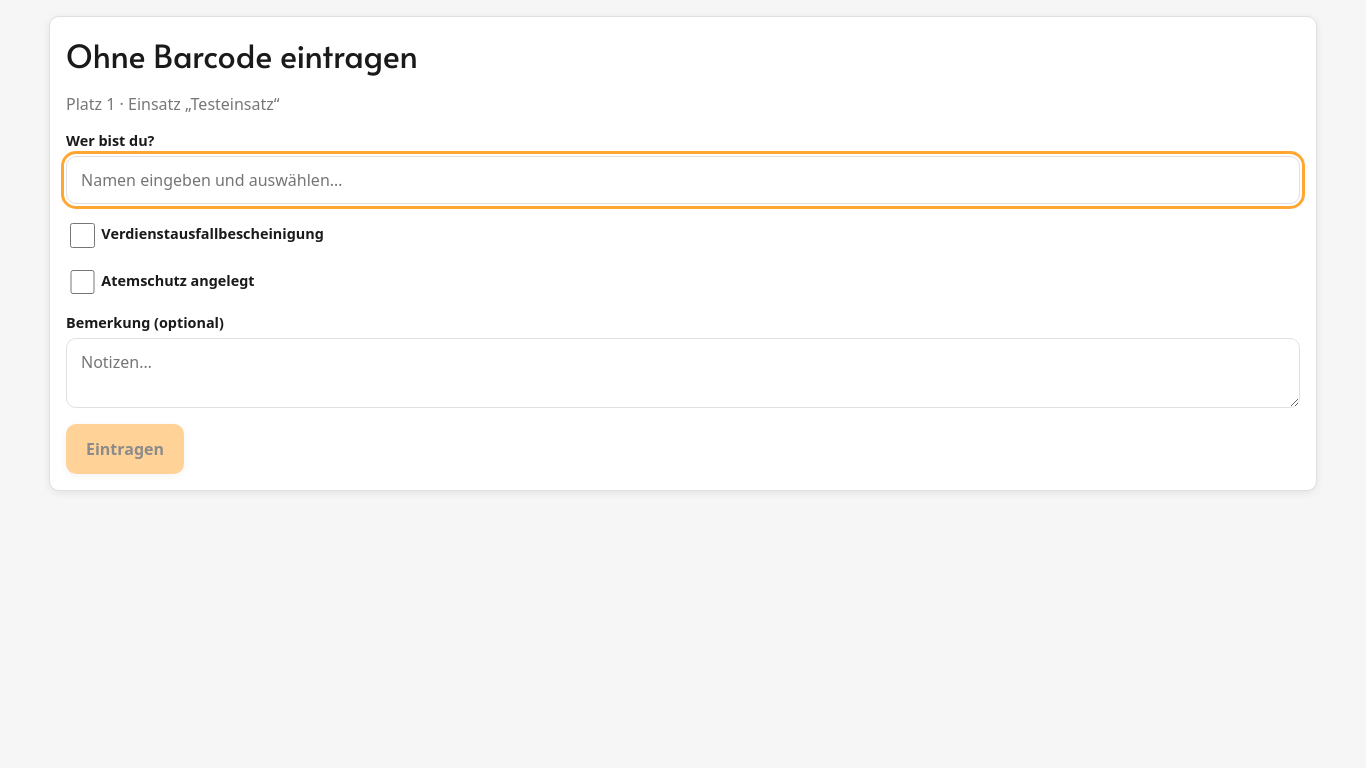
Scenario: ManuelleEintragung (Ohne Barcode eintragen) › trägt eine Person nach Name+PIN ein und zeigt die Bestätigung
The width and height of the screenshot is (1366, 768).
Expected: the heading "Ohne Barcode eintragen" is shown, [66,33,418,77]
Type "Max" into the field labelled "Wer bist du?" at (683, 180), box [66,156,1300,204]
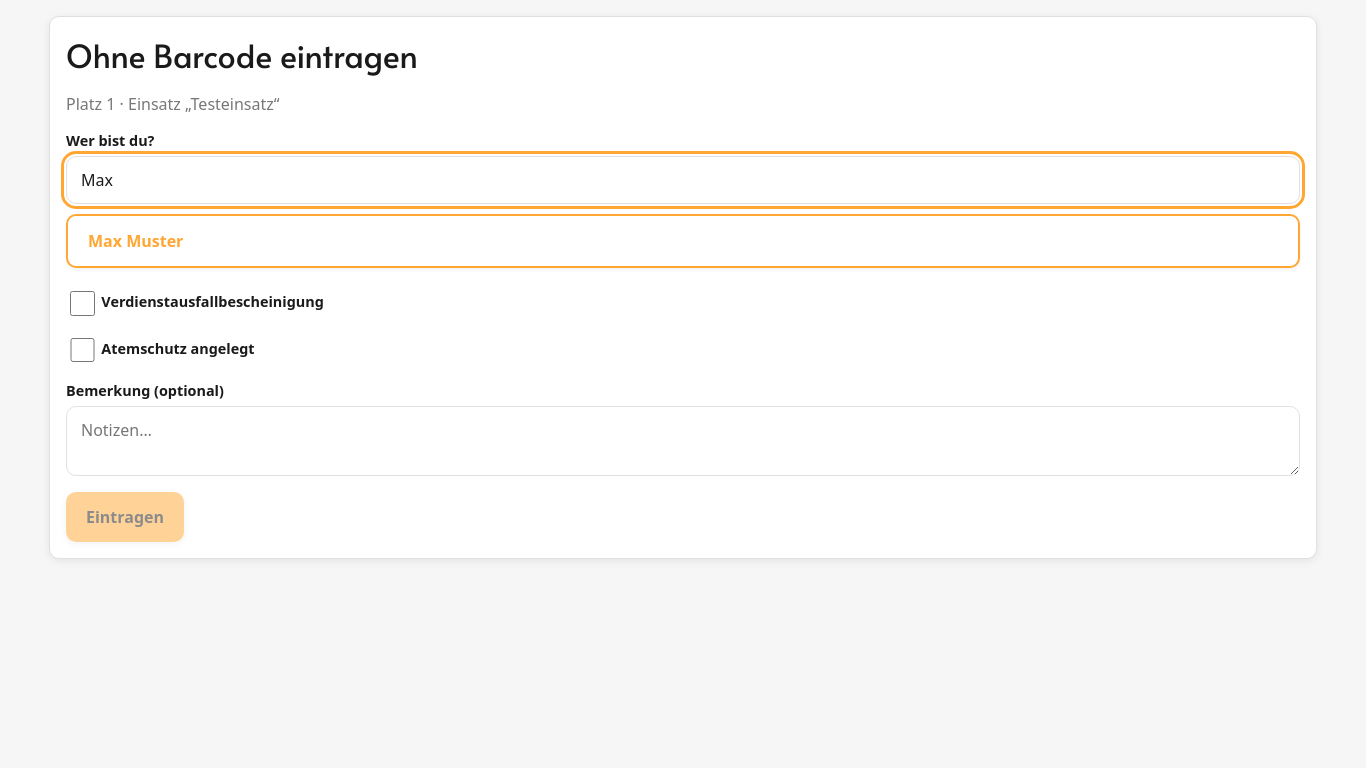
Click the button "Max Muster" at (136, 241), box [66,214,1300,268]
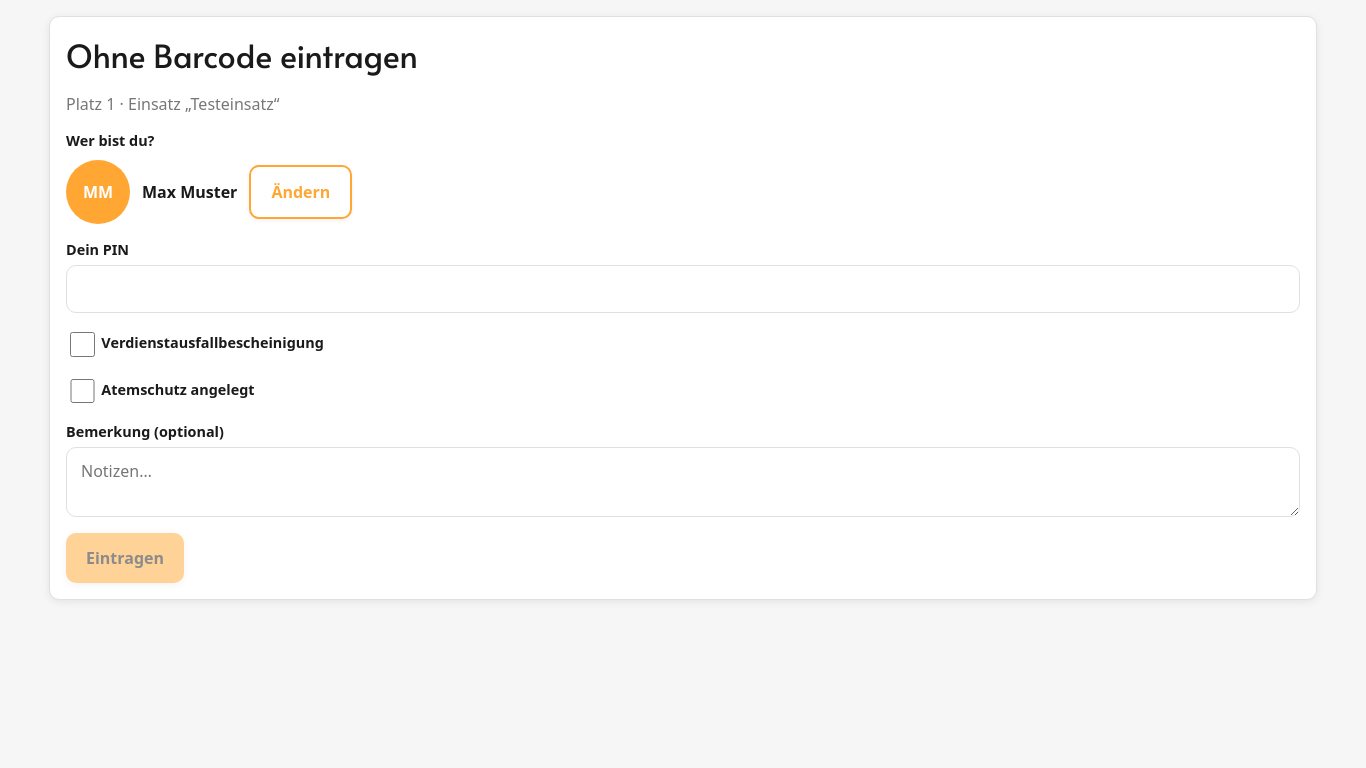
Type "1234" into the password field labelled "Dein PIN" at (683, 289), box [66,265,1300,313]
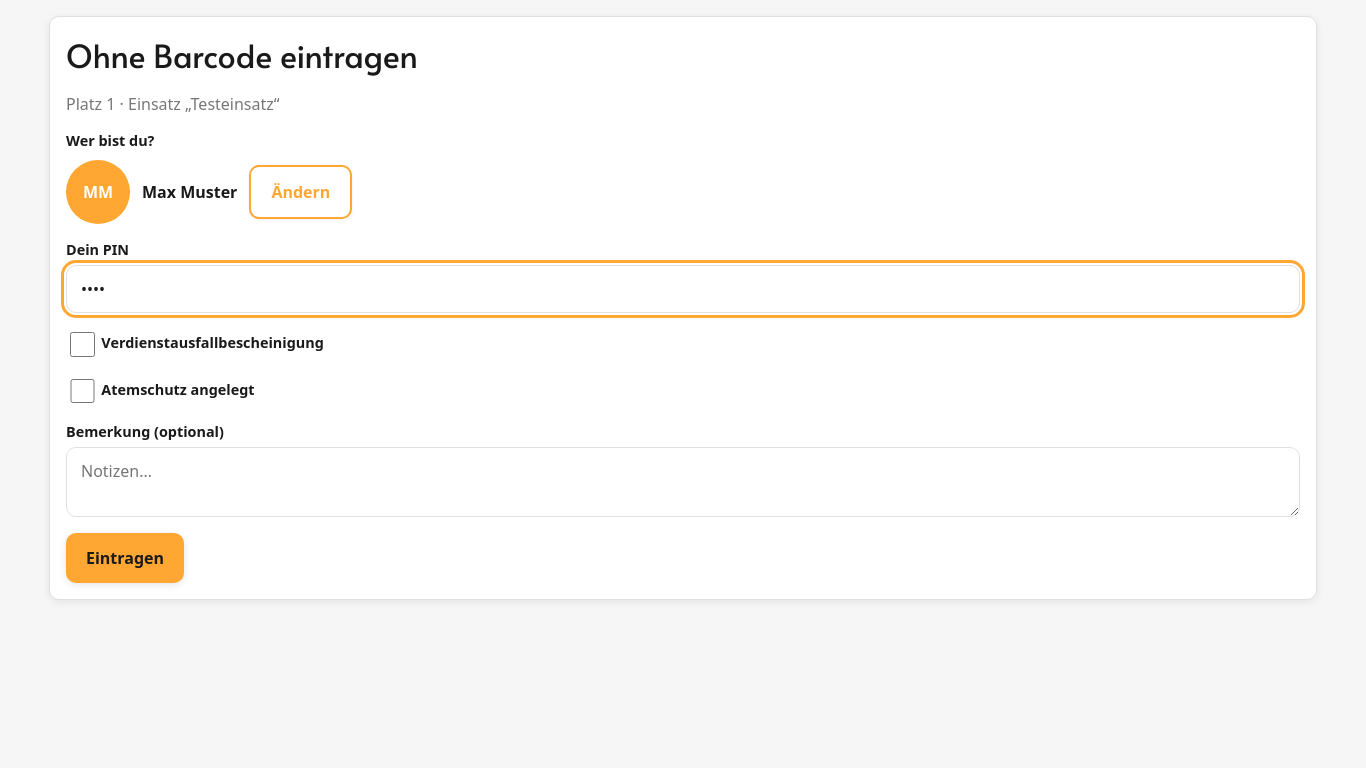
Click the button "Eintragen" at (125, 558), box [66,533,184,583]
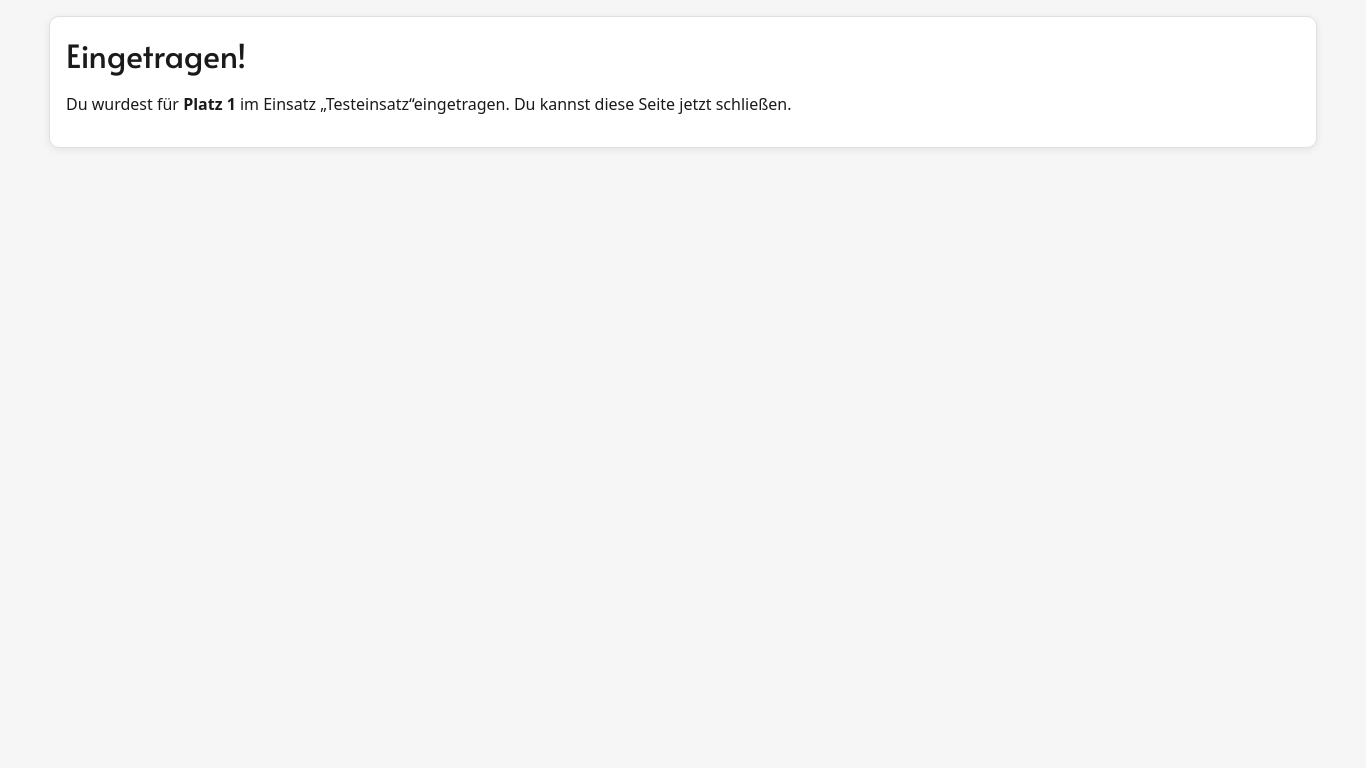
Expected: the heading "Eingetragen!" is shown, [66,33,246,77]
